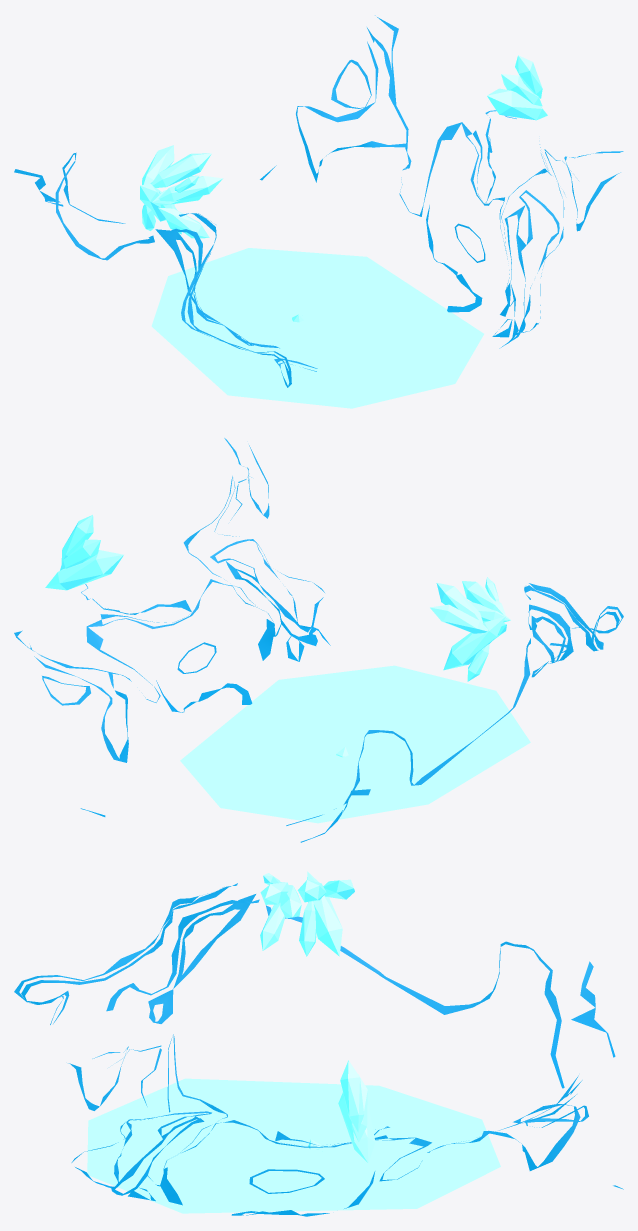
File: v8_level_03_gems.fbx
3 views of the same model, one above another, from view 1: azimuth 30°, elevation 25°; view 2: azimuth 150°, elevation 25°; view 3: azimuth 270°, elevation 25° (orthographic). The views are drawn at different scales.
Parts seen in each view (by area): view 1: v8_level_03.001, v8_level_03.017, gem_01.011, gem_01.072, gem_01.007, gem_01.002, gem_01.009, gem_01.001, gem_01.010; view 2: v8_level_03.001, v8_level_03.017, gem_01.011, gem_01.003, gem_01.001, gem_01.072, gem_01.009, gem_01.007, gem_01.010; view 3: v8_level_03.001, v8_level_03.017, gem_01.003, gem_01.009, gem_01.011, gem_01.002, gem_01.005, gem_01.001, gem_01.006, gem_01.007.
Part boxes in pixels (x1,y1,x2,y2): v8_level_03.001: (151,248,483,408); v8_level_03.017: (14,15,623,387); gem_01.011: (487,88,547,120); gem_01.072: (151,153,211,187); gem_01.007: (158,176,222,201); gem_01.002: (158,207,209,238); gem_01.009: (515,55,542,98); gem_01.001: (142,145,174,184); gem_01.010: (501,74,542,106); v8_level_03.001: (180,665,530,823); v8_level_03.017: (14,438,623,842); gem_01.011: (45,550,123,590); gem_01.003: (443,616,505,670); gem_01.001: (430,604,487,633); gem_01.072: (436,583,482,623); gem_01.009: (61,515,93,563); gem_01.007: (462,581,505,615); gem_01.010: (60,539,100,570); v8_level_03.001: (87,1078,500,1213); v8_level_03.017: (14,883,623,1216); gem_01.003: (307,871,342,956); gem_01.009: (340,1060,364,1132); gem_01.011: (338,1092,375,1163); gem_01.002: (260,902,285,950); gem_01.005: (299,901,316,956); gem_01.001: (323,879,354,899); gem_01.006: (280,885,301,918); gem_01.007: (260,882,289,904).
Size of the model in its own units: 1570 by 709 by 1649.
